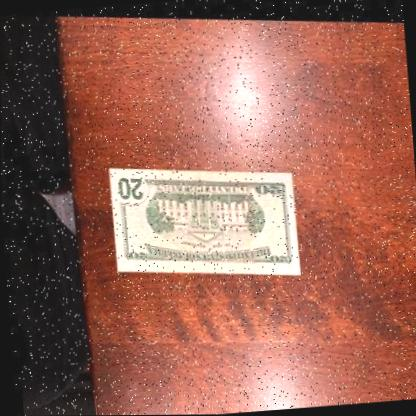twenty-back: (106, 151, 299, 285)
